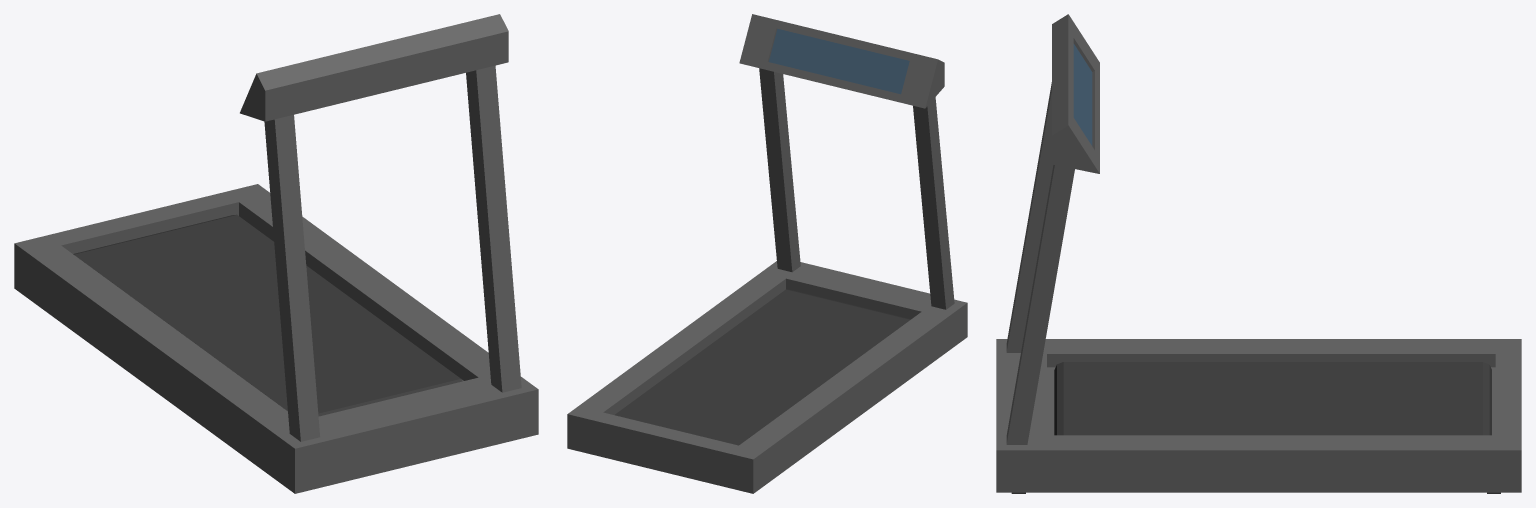
File: treadmill_2.glb
3 views of the same model, side by side, from view 1: azimuth 30°, elevation 25°; view 2: azimuth 150°, elevation 25°; view 3: azimuth 270°, elevation 25° (orthographic). The views are drawn at different scales.
Parts seen in each view (by area): view 1: Treadmill_2_Main, Treadmill_R; view 2: Treadmill_2_Main, Treadmill_R; view 3: Treadmill_2_Main, Treadmill_R.
Part boxes in pixels (box(x1,y1,x2,y2)): Treadmill_2_Main: box(14, 14, 538, 493); Treadmill_R: box(73, 214, 462, 416); Treadmill_2_Main: box(567, 14, 967, 493); Treadmill_R: box(615, 289, 910, 445); Treadmill_2_Main: box(996, 14, 1521, 493); Treadmill_R: box(1054, 362, 1491, 435).
Size of the model in its own units: 0.8778 by 1.39 by 1.75.
2 materials, 2 textured.
